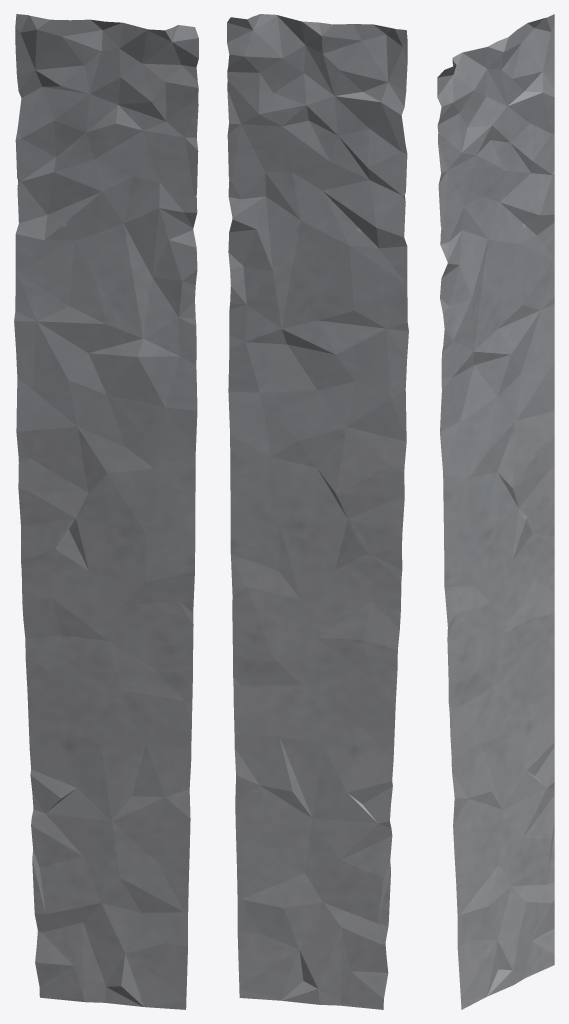
3 renders of one model, left to right at view 1: azimuth 30°, elevation 25°; view 2: azimuth 210°, elevation 25°; view 3: azimuth 270°, elevation 25°, orthographic. The views are drawn at different scales.
Size of the model in its own units: 0.1088 by 0.8374 by 0.095.
Materials: 1 (1 with a texture image).
